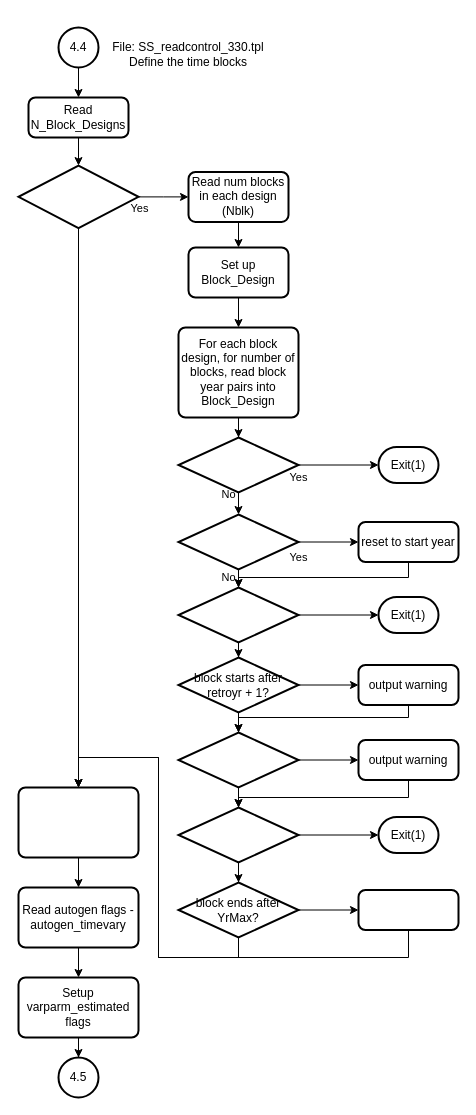
This 476x1115 diagram has some shape labels left out. Each missing label, with the box of its shape:
block end before start year?: (177, 586, 299, 643)
block end before start?: (177, 436, 299, 493)
block ends after retroyr + 1?: (177, 731, 299, 788)
block start after YrMax?: (177, 806, 299, 863)
block start before start year?: (177, 513, 299, 570)
N_Block_Designs > 0?: (17, 164, 139, 229)
Read time-vary bound check - parm_adjust_method: (17, 786, 139, 858)
reset to YrMax: (357, 888, 459, 930)
